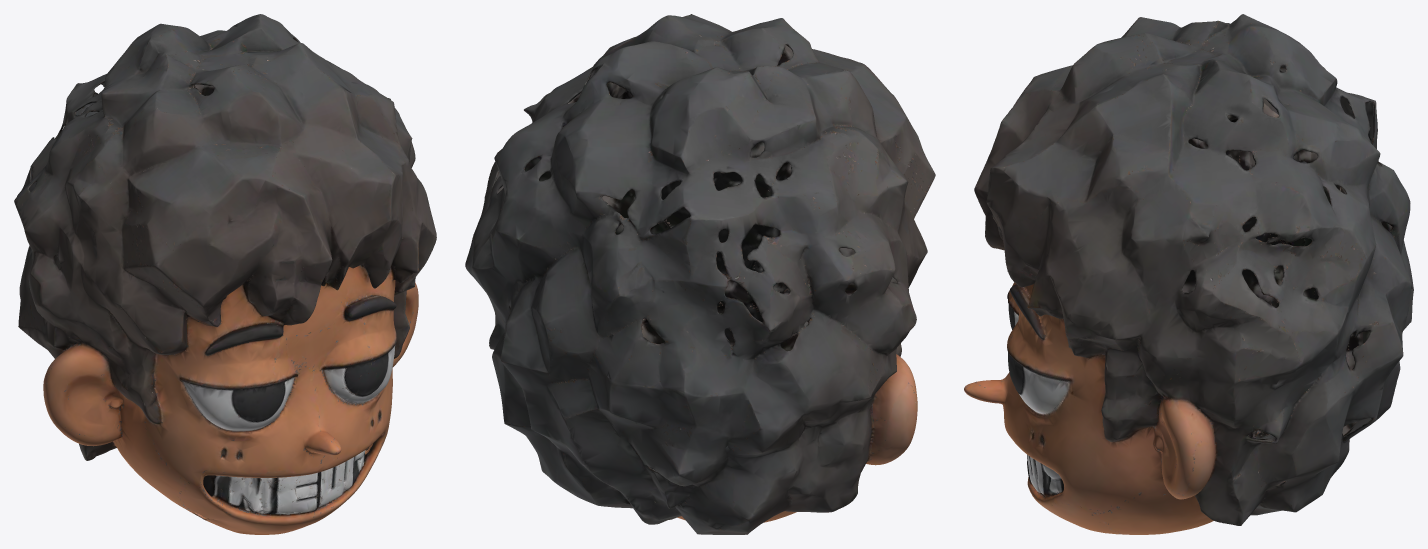
Rendered from newt-character.min.glb.
The picture shows the model from 3 angles, left to right: view 1: azimuth 30°, elevation 25°; view 2: azimuth 150°, elevation 25°; view 3: azimuth 270°, elevation 25°; orthographic projection. The views are drawn at different scales.
Size of the model in its own units: 1.76 by 2 by 1.72.
1 material, 1 textured.
